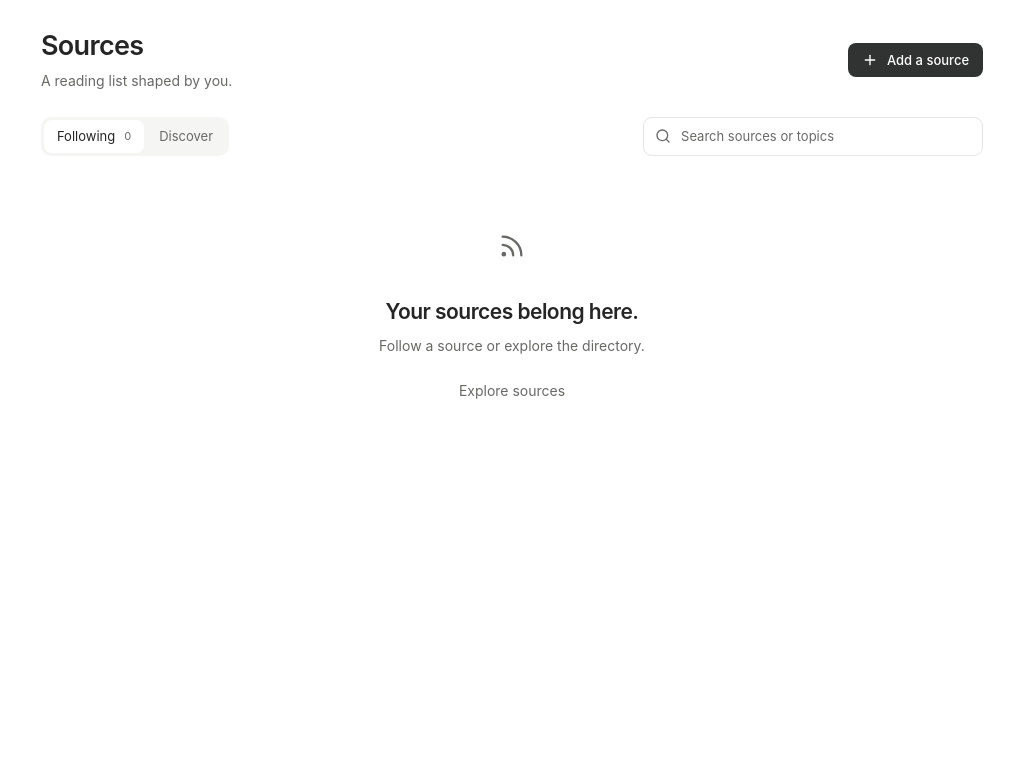
it: can retry curated suggestions independently of the directory
Step 1. Click the button "Discover" → (186, 136), box top-left (146, 120), bottom-right (226, 153)
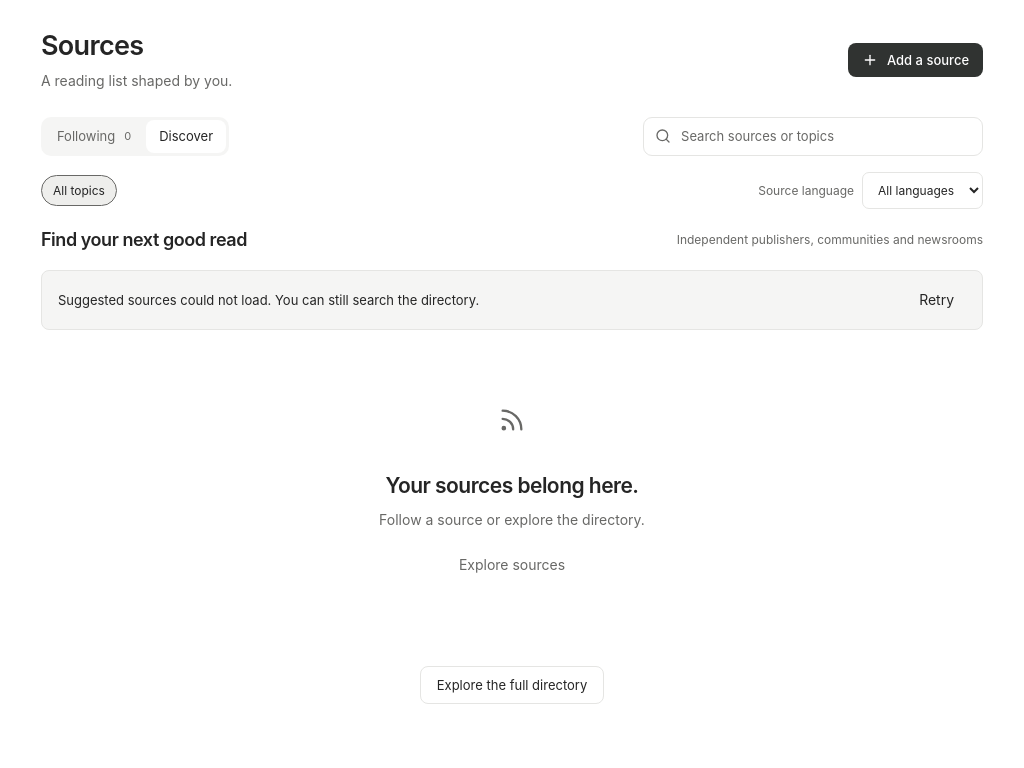
Check: the text "Suggested sources could not load. You can still search the directory." is shown, box top-left (58, 292), bottom-right (479, 308)
Step 2. Click the button "Retry" → (937, 300), box top-left (907, 283), bottom-right (966, 317)
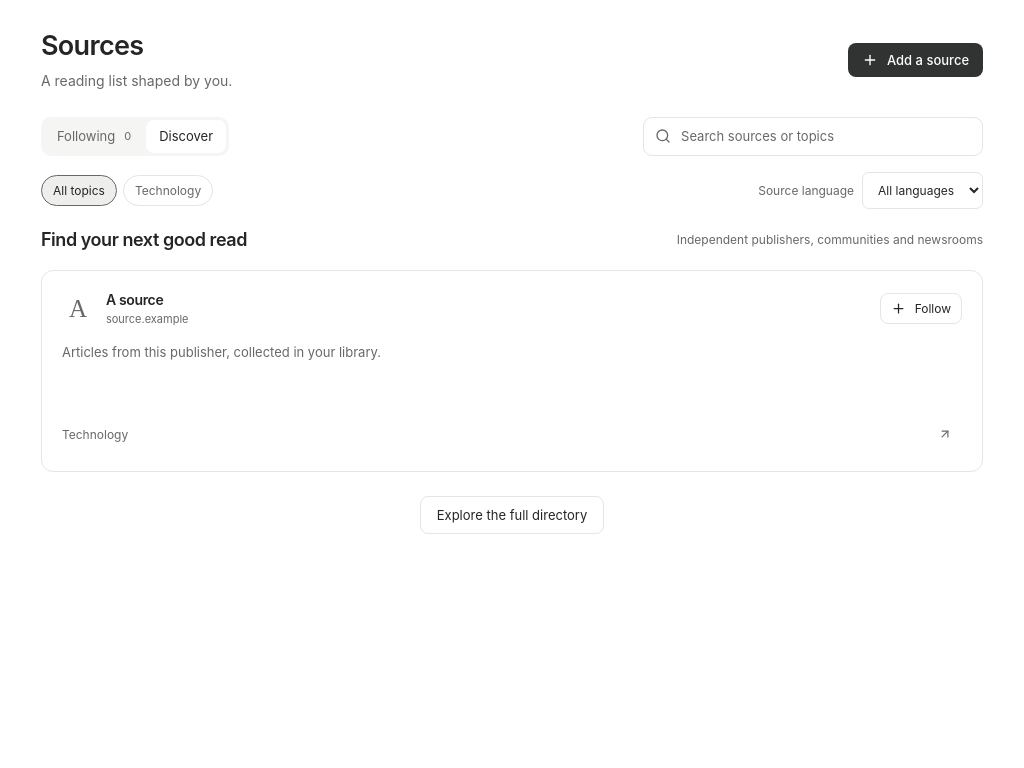
Check: the heading "A source" is shown, box top-left (106, 291), bottom-right (163, 308)
Check: the message "Suggested sources could not load. You can still search the directory. Retry" is gone
